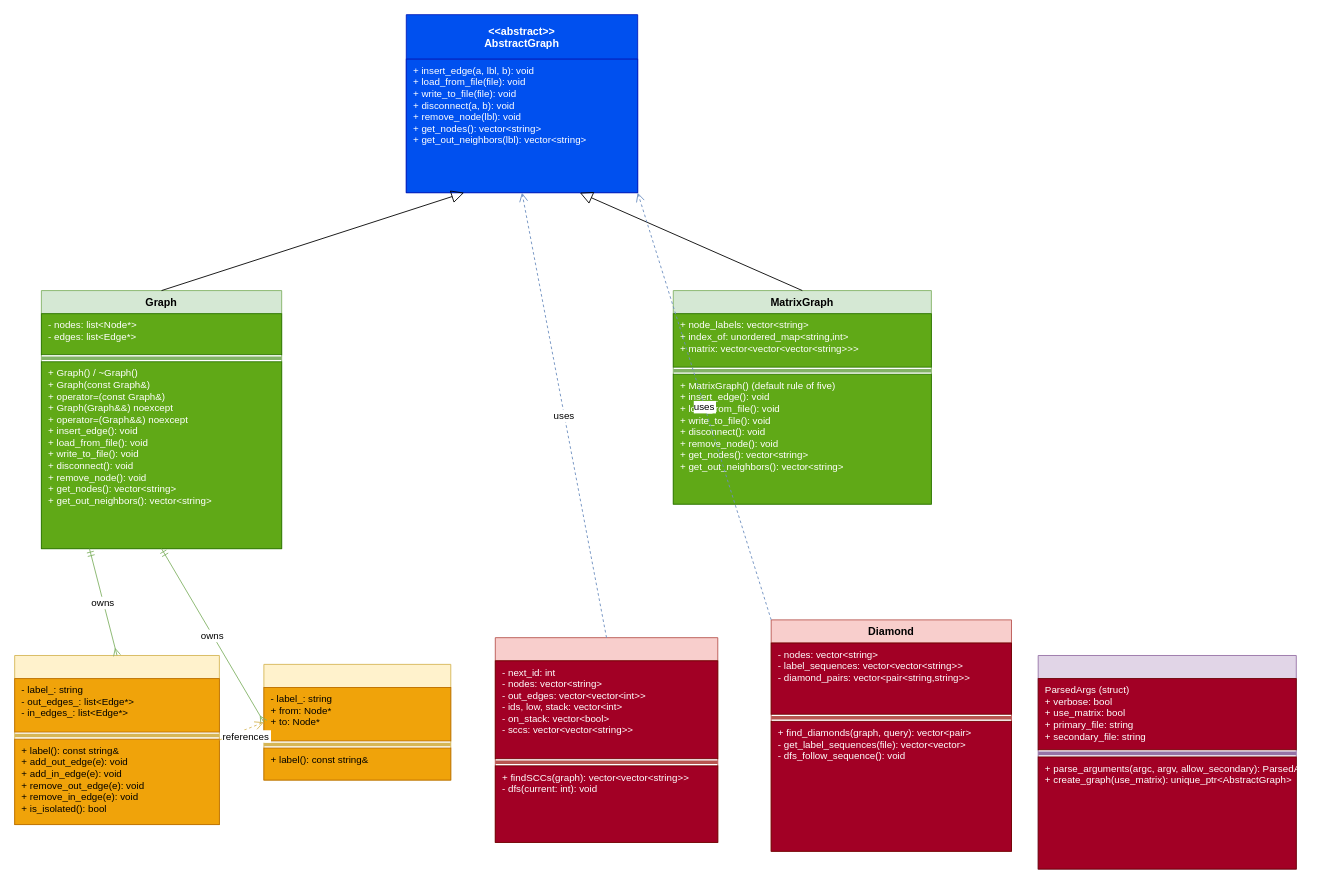
Image size: 1329x884. Some labels were removed from this diagram. Each missing label, with the box of its shape:
Edge: (263, 663, 451, 780)
graph_from_cmd: (1037, 655, 1296, 869)
Node: (14, 655, 219, 825)
Tarjan: (494, 637, 718, 842)
